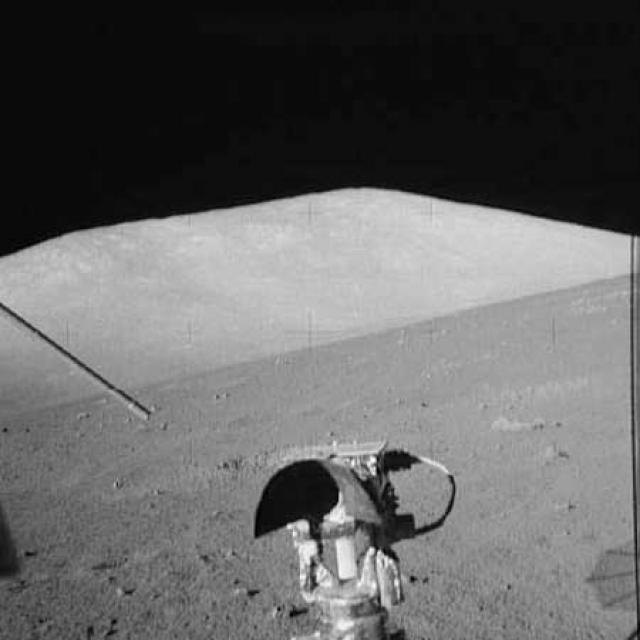artifact: (245, 441, 458, 638), (2, 288, 152, 427)
crater: (222, 437, 338, 469)
rock: (479, 411, 560, 435)
